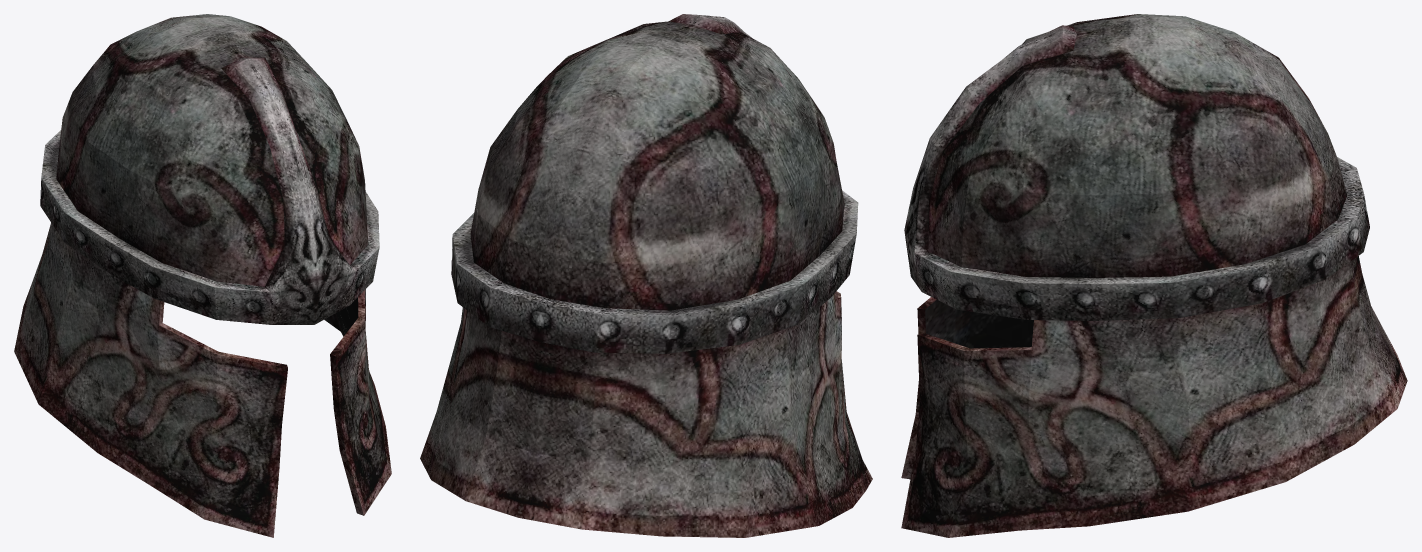
Rendered from ITHL_HELMET_R_SENTINEL.glb.
3 views of the same model, side by side, from view 1: azimuth 30°, elevation 25°; view 2: azimuth 150°, elevation 25°; view 3: azimuth 270°, elevation 25° (orthographic). The views are drawn at different scales.
Parts seen in each view (by area): view 1: ITHL_HELMET_R_SENTINEL; view 2: ITHL_HELMET_R_SENTINEL; view 3: ITHL_HELMET_R_SENTINEL.
Boxes of the visible parts, x1=… form: ITHL_HELMET_R_SENTINEL: x1=14, y1=14, x2=391, y2=537; ITHL_HELMET_R_SENTINEL: x1=420, y1=14, x2=872, y2=537; ITHL_HELMET_R_SENTINEL: x1=901, y1=14, x2=1407, y2=537.
Size of the model in its own units: 0.2608 by 0.3391 by 0.3261.
Materials: 1 (1 with a texture image).
